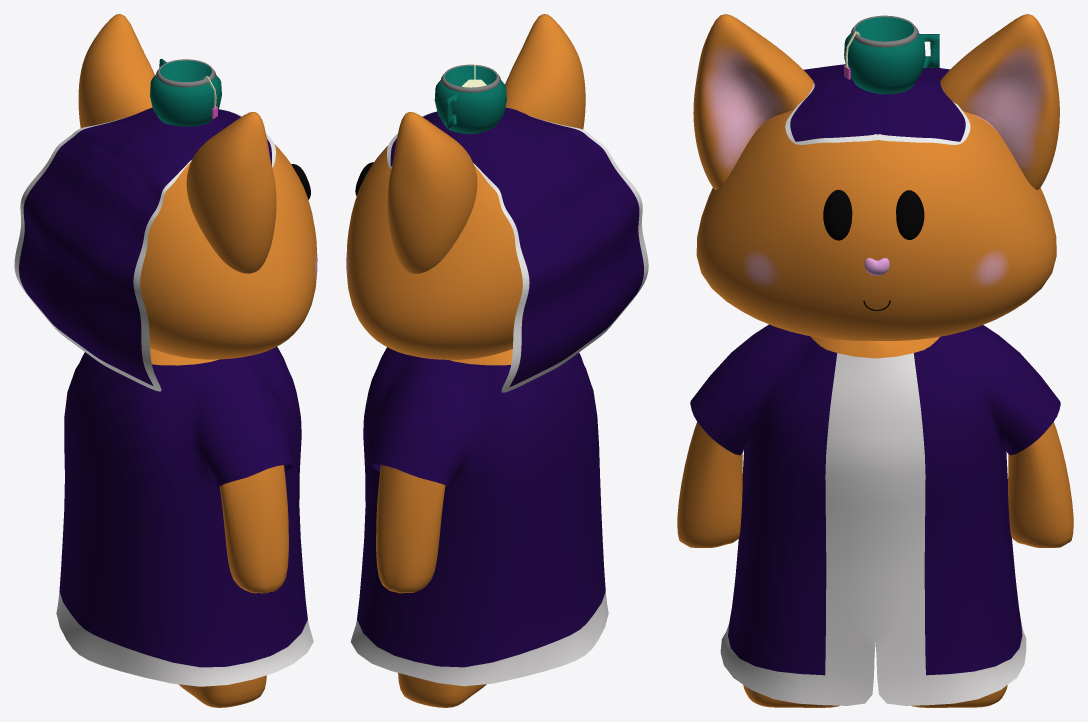
Rendered from nico1.glb.
3 views of the same model, side by side, from view 1: azimuth 30°, elevation 25°; view 2: azimuth 150°, elevation 25°; view 3: azimuth 270°, elevation 25° (orthographic). The views are drawn at different scales.
Visible parts, largest first — view 1: traje.002, Cuerpo_gato_curro.002, Plane.005, Cylinder.006; view 2: traje.002, Cuerpo_gato_curro.002, Plane.005, Cylinder.006; view 3: traje.002, Cuerpo_gato_curro.002, Plane.005, Cylinder.006, Ojos.002.
Boxes of the visible parts, <box> form: traje.002: <box>56,346,313,686</box>; Cuerpo_gato_curro.002: <box>78,14,317,707</box>; Plane.005: <box>14,107,275,391</box>; Cylinder.006: <box>150,59,221,126</box>; traje.002: <box>350,347,608,686</box>; Cuerpo_gato_curro.002: <box>346,14,585,707</box>; Plane.005: <box>387,107,648,392</box>; Cylinder.006: <box>434,63,506,134</box>; traje.002: <box>690,324,1060,705</box>; Cuerpo_gato_curro.002: <box>677,14,1073,707</box>; Plane.005: <box>785,64,970,144</box>; Cylinder.006: <box>844,15,939,94</box>; Ojos.002: <box>823,190,924,240</box>.
Size of the model in its own units: 2.29 by 5.67 by 2.99.
Materials: 12 (1 with a texture image).
